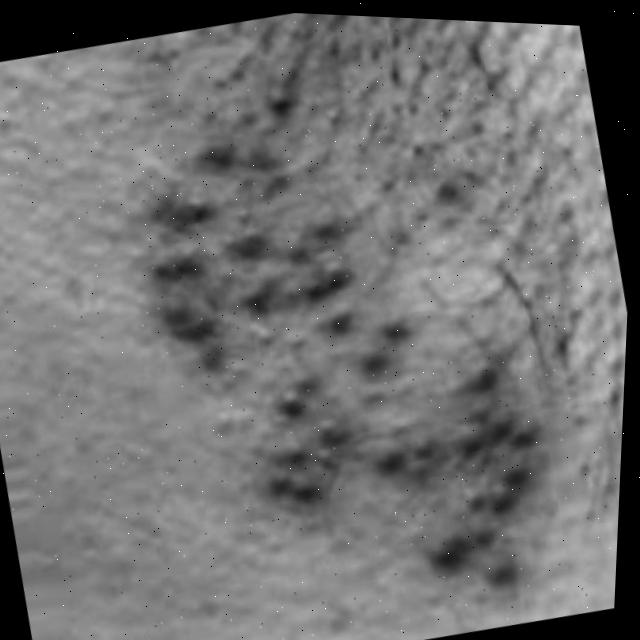Shingles: (89, 46, 597, 640)
